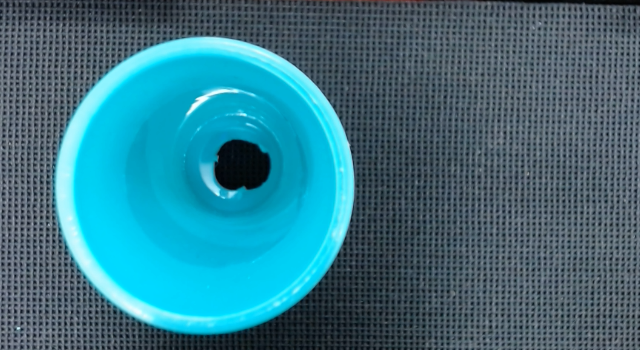hole: (213, 139, 271, 190)
